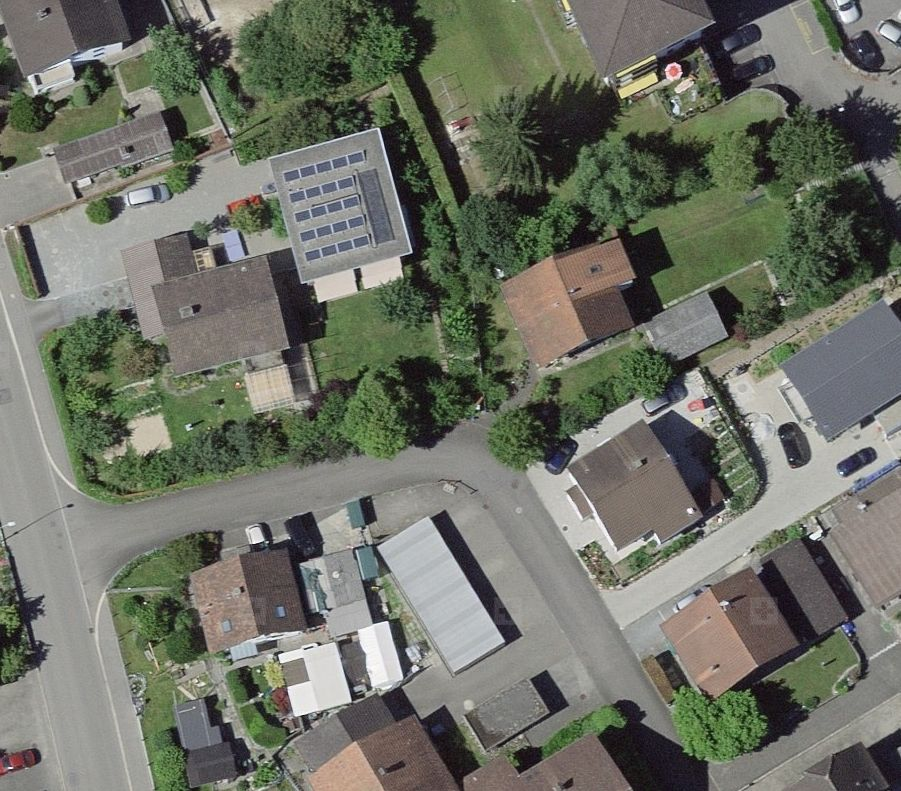solar: (281, 149, 373, 264)
